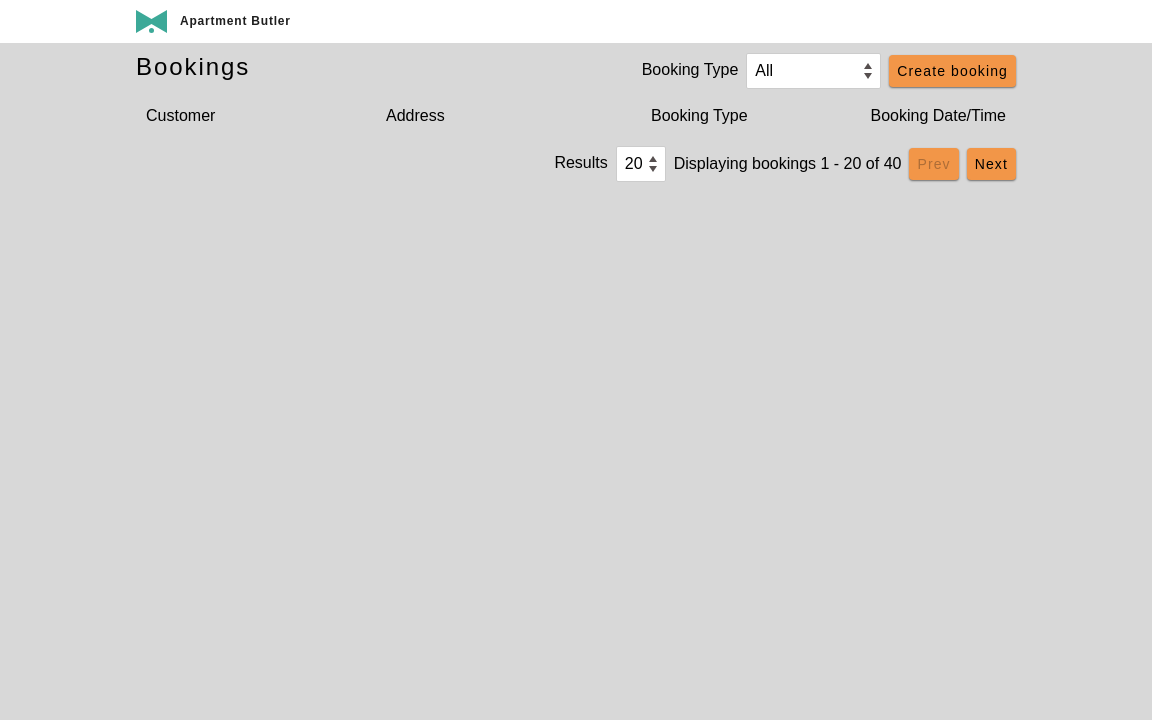
Test: closes create booking modal upon Escape keydown event
Click the button with test id "create-booking-button" at (953, 71), box top-left (889, 55), bottom-right (1016, 87)
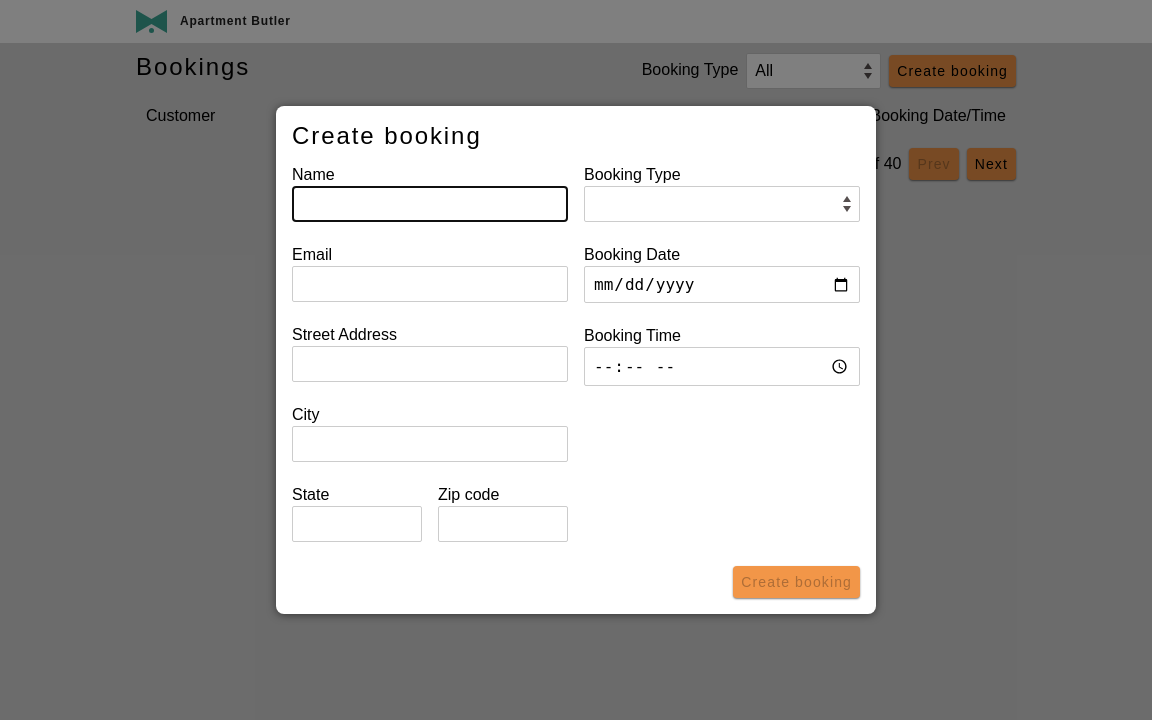
Press Escape in the field labelled "Name", box top-left (292, 186), bottom-right (568, 222)
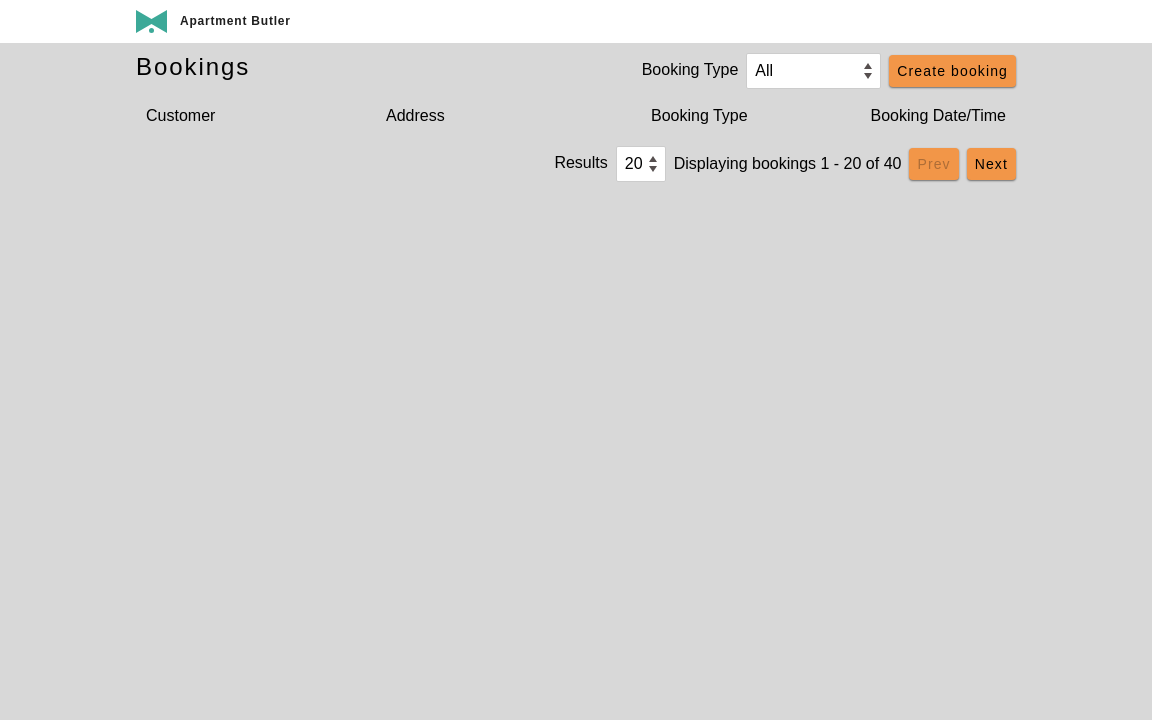
Now the form with test id "create-booking-form" is gone
